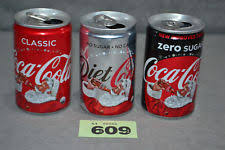can: (13, 5, 73, 120), (80, 8, 137, 129), (143, 9, 202, 125)
